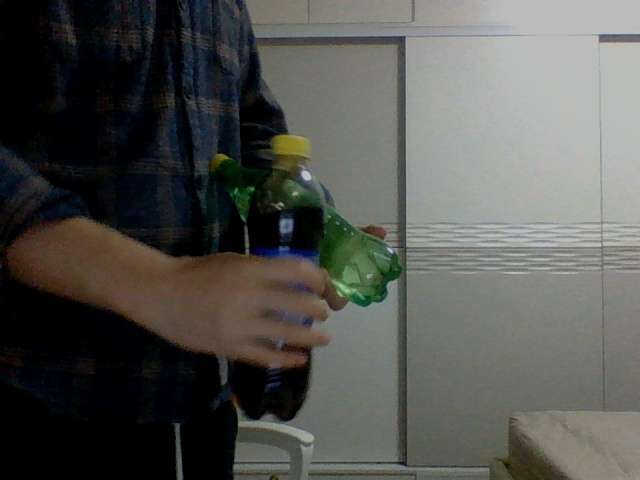Cola: (229, 133, 323, 421)
